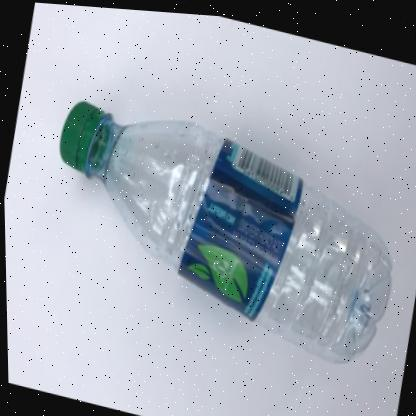Plastic: (58, 99, 390, 357)
